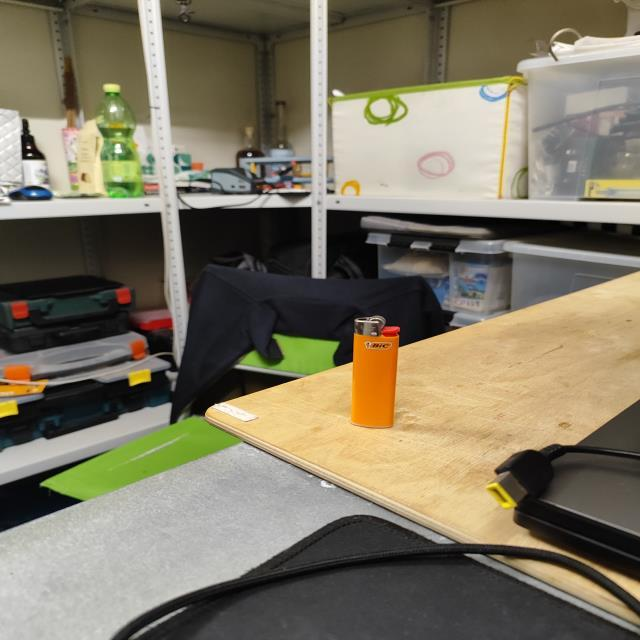lighter: (351, 317, 398, 427)
